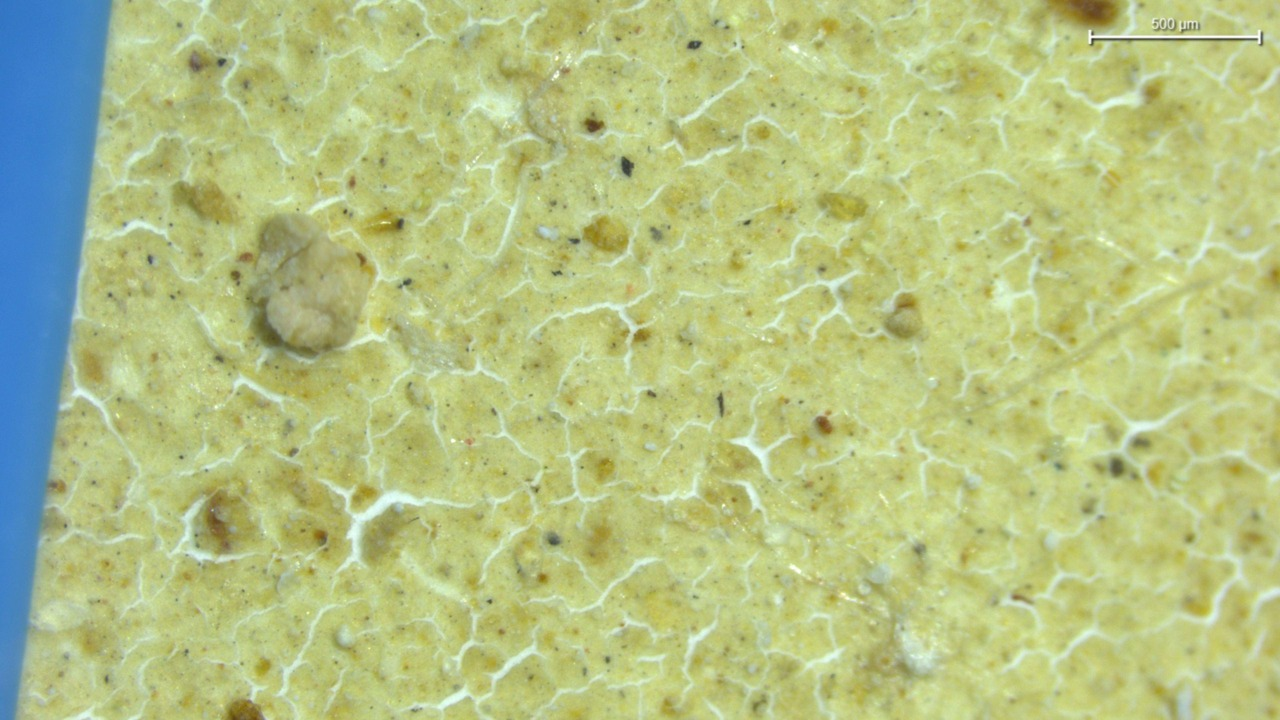microplastic_fragment: (251, 213, 371, 352)
